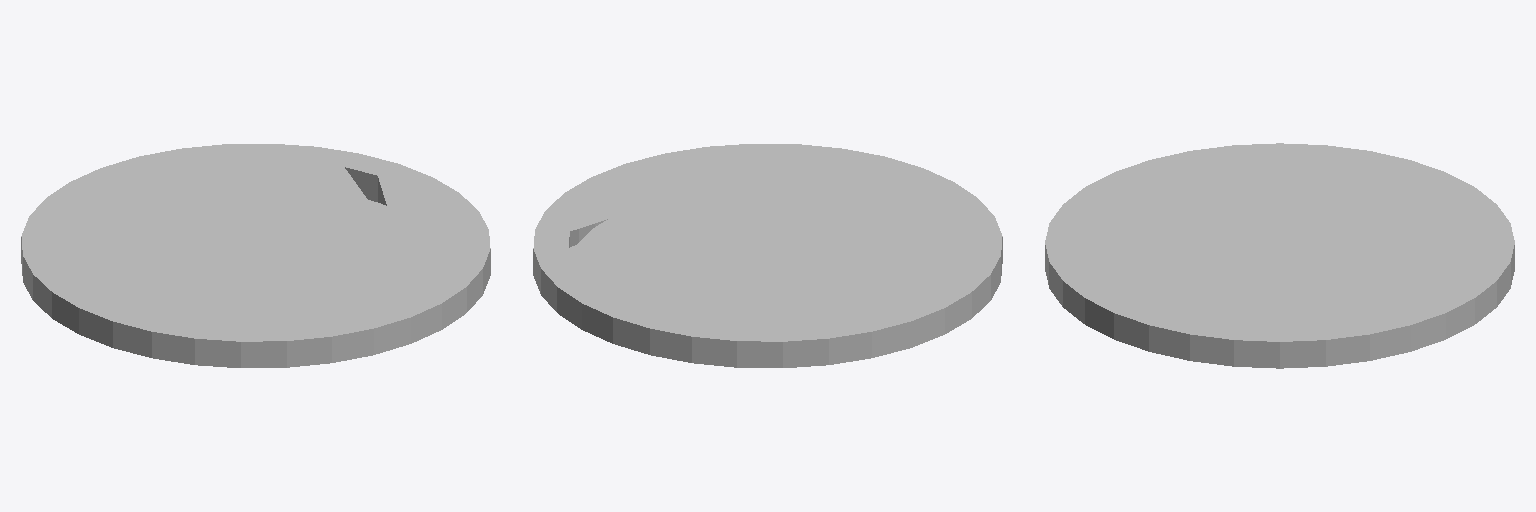
Rendered from KayMazey disp hl.obj.
3 views of the same model, side by side, from view 1: azimuth 30°, elevation 25°; view 2: azimuth 150°, elevation 25°; view 3: azimuth 270°, elevation 25° (orthographic).
Visible parts, largest first — view 1: Cylinder; view 2: Cylinder; view 3: Cylinder.
Boxes of the visible parts, x1,y1,x2,y2 form: Cylinder: [21, 144, 490, 367]; Cylinder: [533, 144, 1002, 367]; Cylinder: [1045, 143, 1514, 368].
Bounding box in the file's own units: 2 × 0.125 × 2.